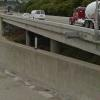Bridge: (2, 13, 93, 64)
